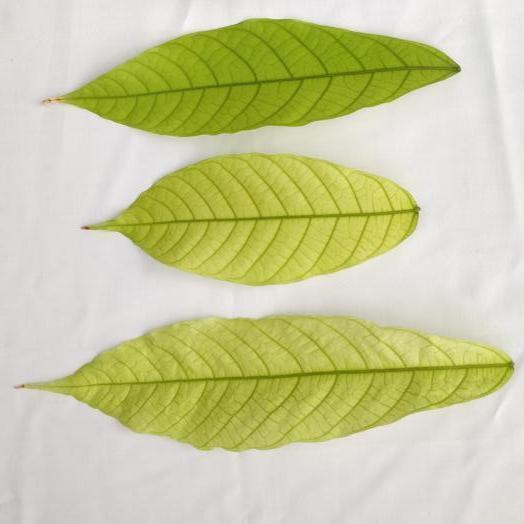Iron: (26, 316, 513, 450), (50, 19, 460, 136), (87, 153, 418, 284)
